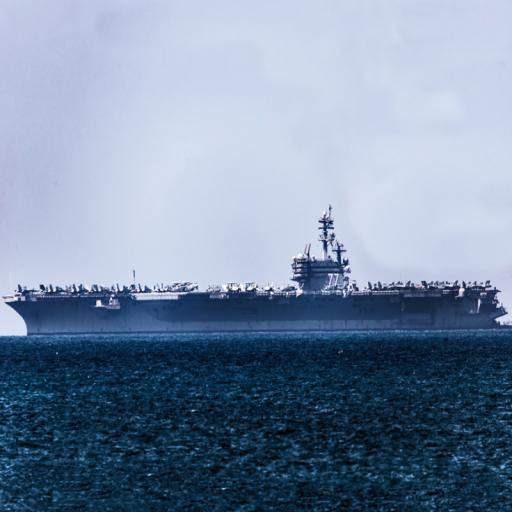Portanaves: (2, 203, 508, 335)
